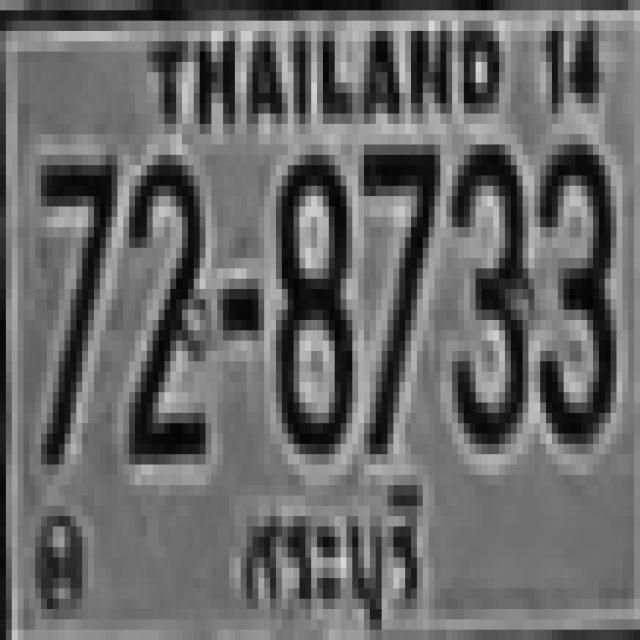2: (123, 150, 200, 449)
3: (534, 134, 611, 434), (449, 139, 526, 439)
7: (358, 134, 435, 444), (35, 150, 112, 459)
8: (270, 144, 347, 444)
SaraBuri: (230, 462, 430, 640)
